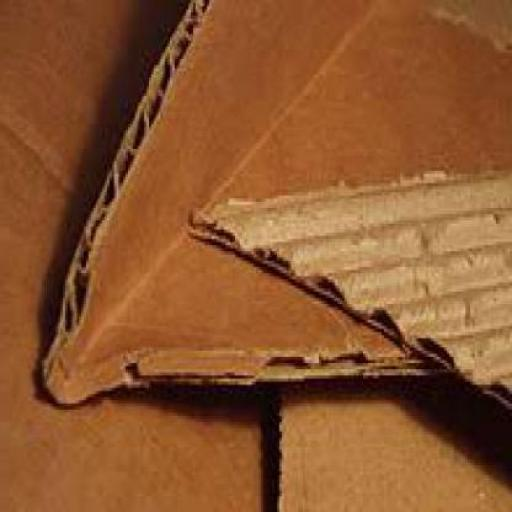cardboard: (1, 0, 511, 511), (44, 0, 511, 405), (193, 158, 511, 416)
